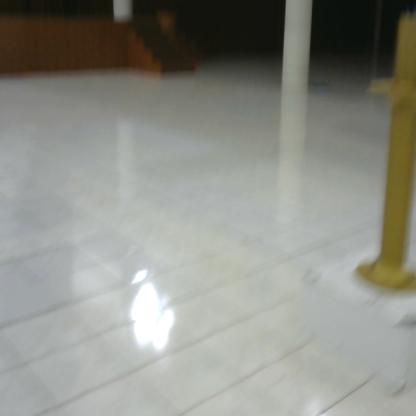pole: (353, 1, 416, 313)
